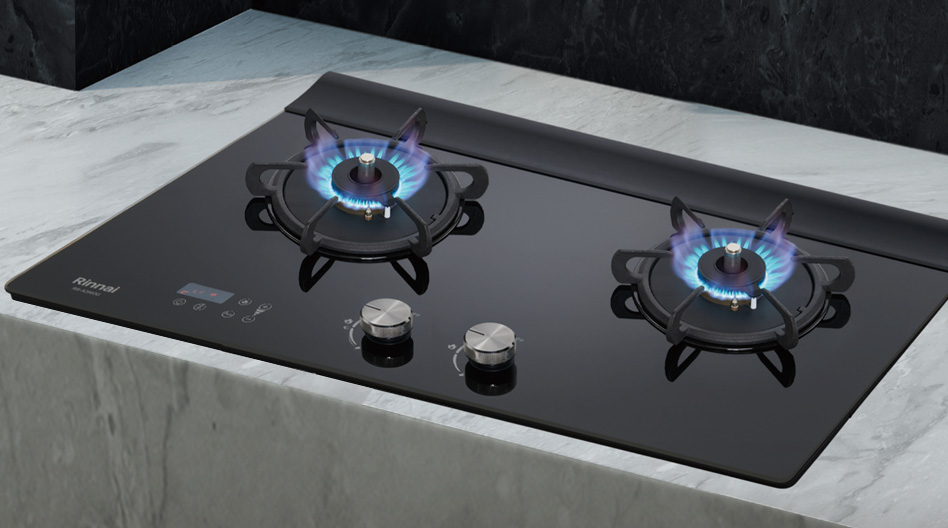gasoven: (11, 65, 948, 493)
